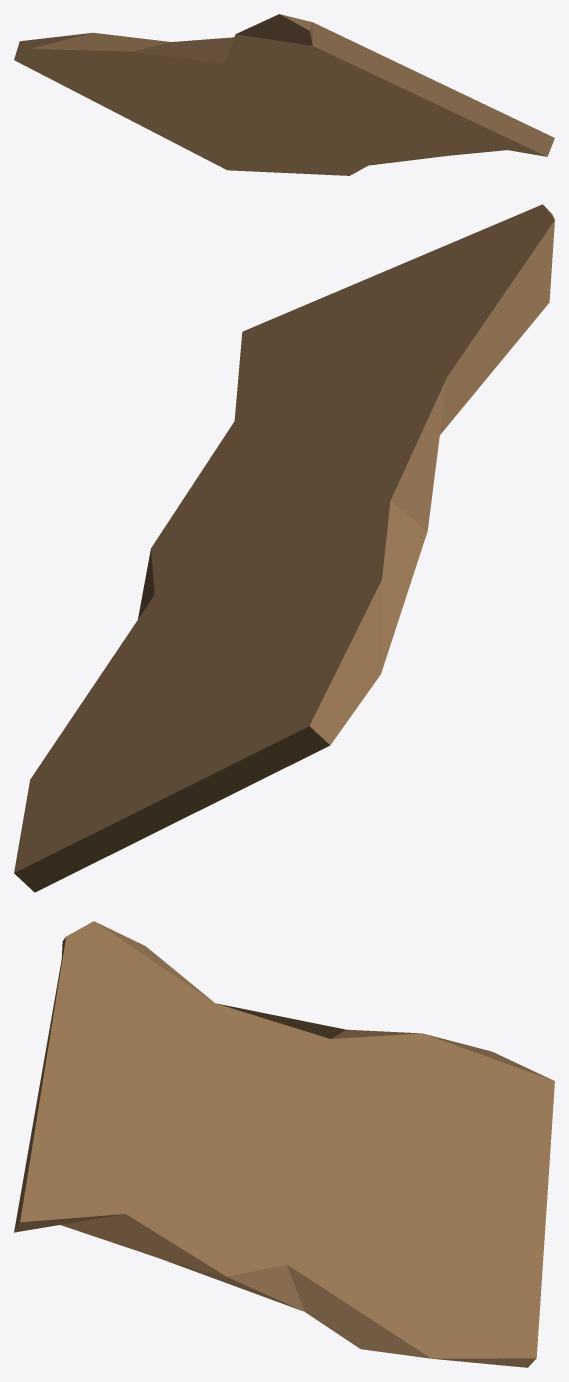
The model's file is Balcony_Asset04.fbx.
The picture shows the model from 3 angles, top to bottom: view 1: azimuth 30°, elevation 25°; view 2: azimuth 150°, elevation 25°; view 3: azimuth 270°, elevation 25°; orthographic projection. The views are drawn at different scales.
Visible parts, largest first — view 1: Cube.072; view 2: Cube.072; view 3: Cube.072.
Part boxes in pixels (x1,y1,x2,y2): Cube.072: (14,14,554,175); Cube.072: (14,204,554,892); Cube.072: (14,921,554,1367).
Bounding box in the file's own units: 109 × 114 × 152.
